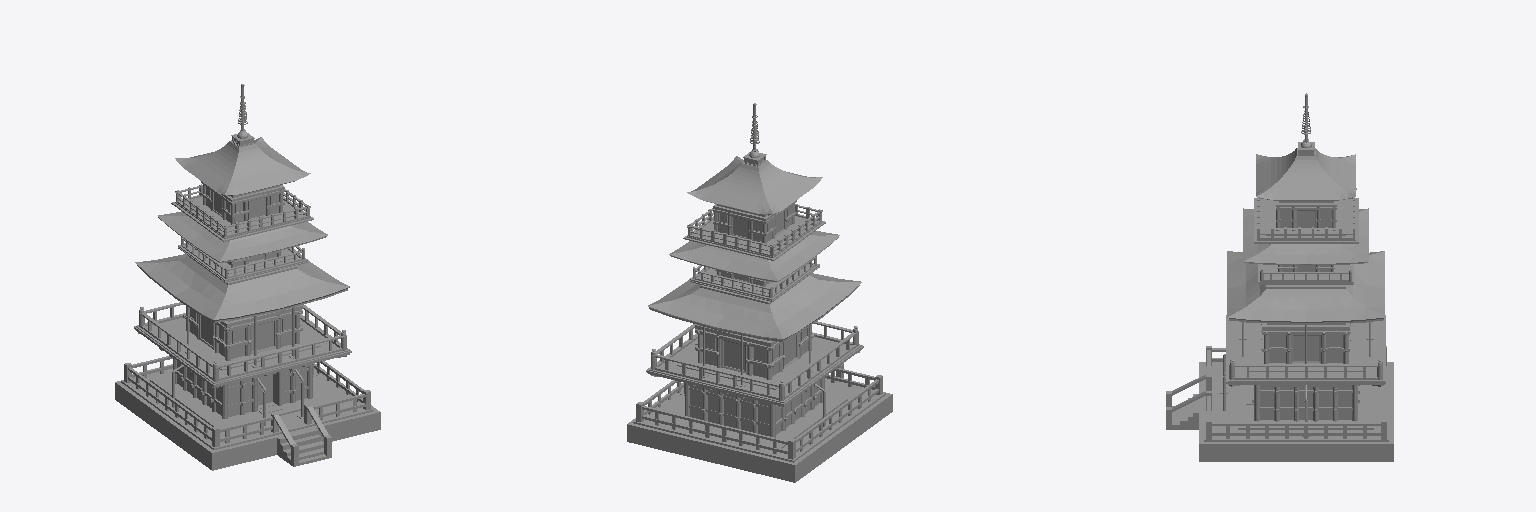
Rendered from Japanese_temple.obj.
The picture shows the model from 3 angles: view 1: azimuth 30°, elevation 25°; view 2: azimuth 150°, elevation 25°; view 3: azimuth 270°, elevation 25°; orthographic projection.
Visible parts, largest first — view 1: Japanese_Shrine_Cylinder.030; view 2: Japanese_Shrine_Cylinder.030; view 3: Japanese_Shrine_Cylinder.030.
Boxes of the visible parts, x1,y1,x2,y2 form: Japanese_Shrine_Cylinder.030: [115, 84, 380, 470]; Japanese_Shrine_Cylinder.030: [627, 103, 892, 482]; Japanese_Shrine_Cylinder.030: [1166, 93, 1393, 461].
Bounding box in the file's own units: 20 × 37.38 × 23.4.